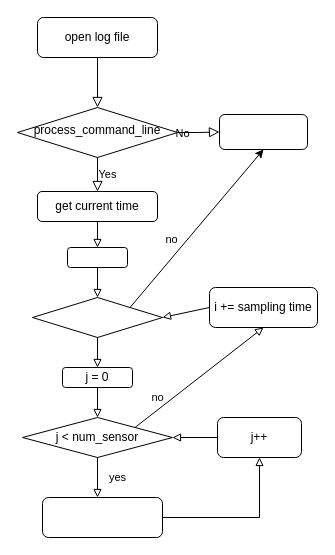
Some shapes in this 335 by 555 pixel diagram are drawn without their labels. Here are the shapes that lost their labels. From the top down, the centre of each, then its label:
At point 263,132: "EXIT".
At point 97,257: "i = 0".
At point 97,317: "i <= interval".
At point 102,517: "write generated values to data file".
